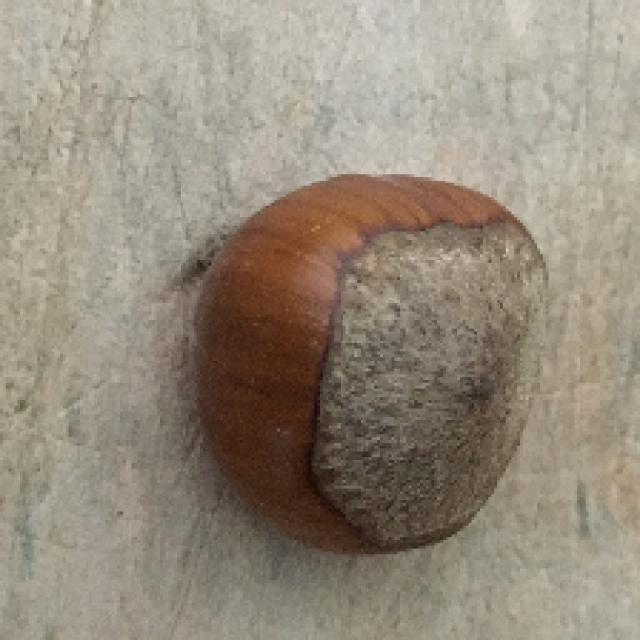qualityHazelnut: (198, 161, 542, 555)
